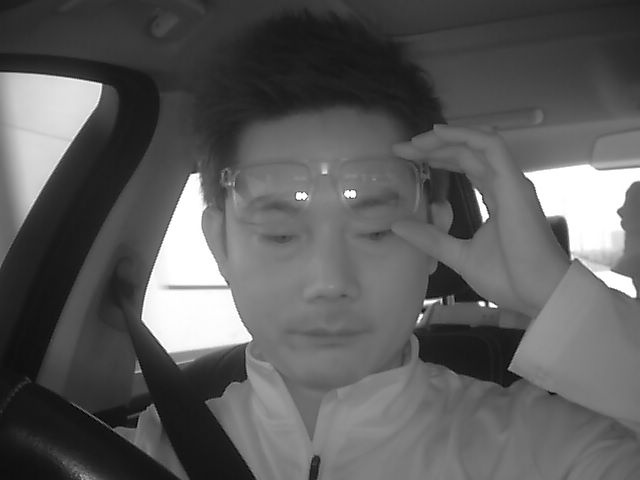hand: (390, 116, 555, 307)
